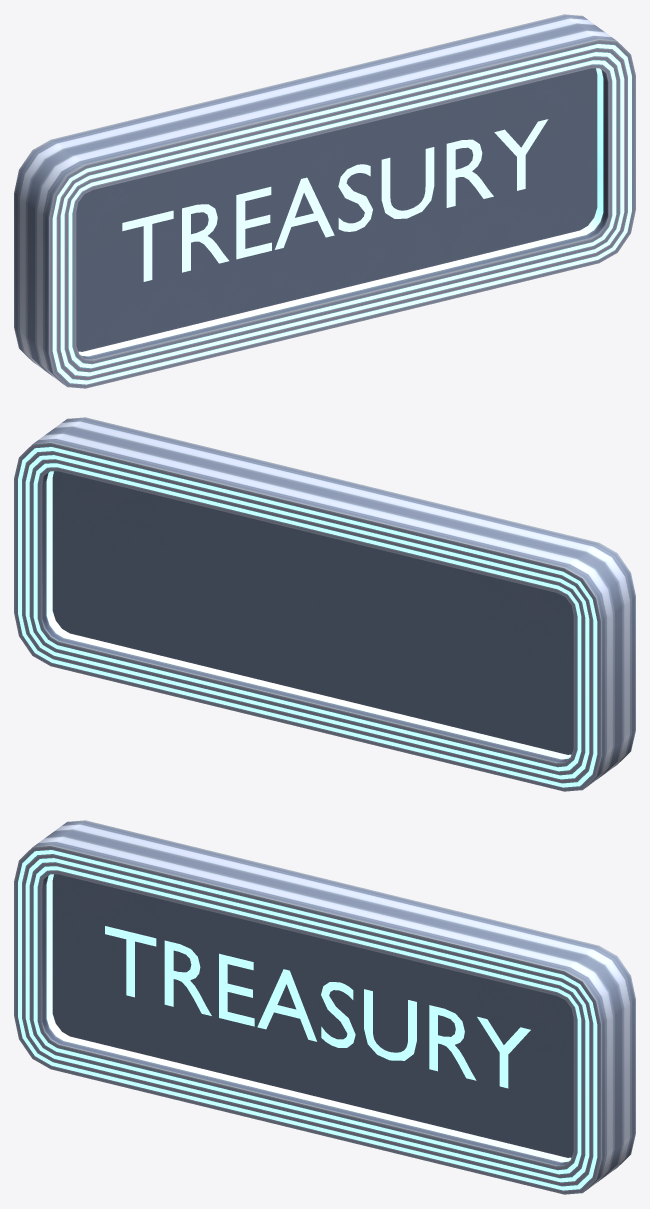
File: obj_treasury.gltf
3 views of the same model, one above another, from view 1: azimuth 30°, elevation 25°; view 2: azimuth 150°, elevation 25°; view 3: azimuth 330°, elevation 25° (orthographic).
Visible parts, largest first — view 1: obj_treasury; view 2: obj_treasury; view 3: obj_treasury.
Part boxes in pixels (left/top/right/bottom): obj_treasury: left=14, top=14, right=635, bottom=388; obj_treasury: left=14, top=417, right=635, bottom=791; obj_treasury: left=14, top=820, right=635, bottom=1194.
Size of what is drawn, in the model's own units: 4.27 by 1.55 by 0.439.
Materials: 2 (1 with a texture image).
